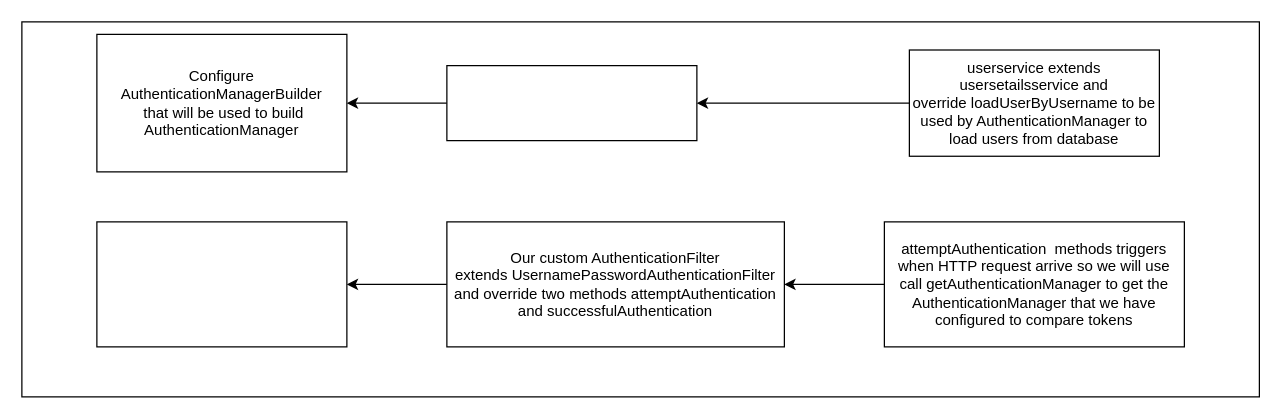
Some shapes in this 1281 by 419 pixel diagram are drawn without their labels. Each missing label, with the centre of its shape:
"Register our custom AuthenticationFilter in httpsecurity" belongs at point (221, 284).
"subcribe (userservice and password encoder)" belongs at point (571, 102).
